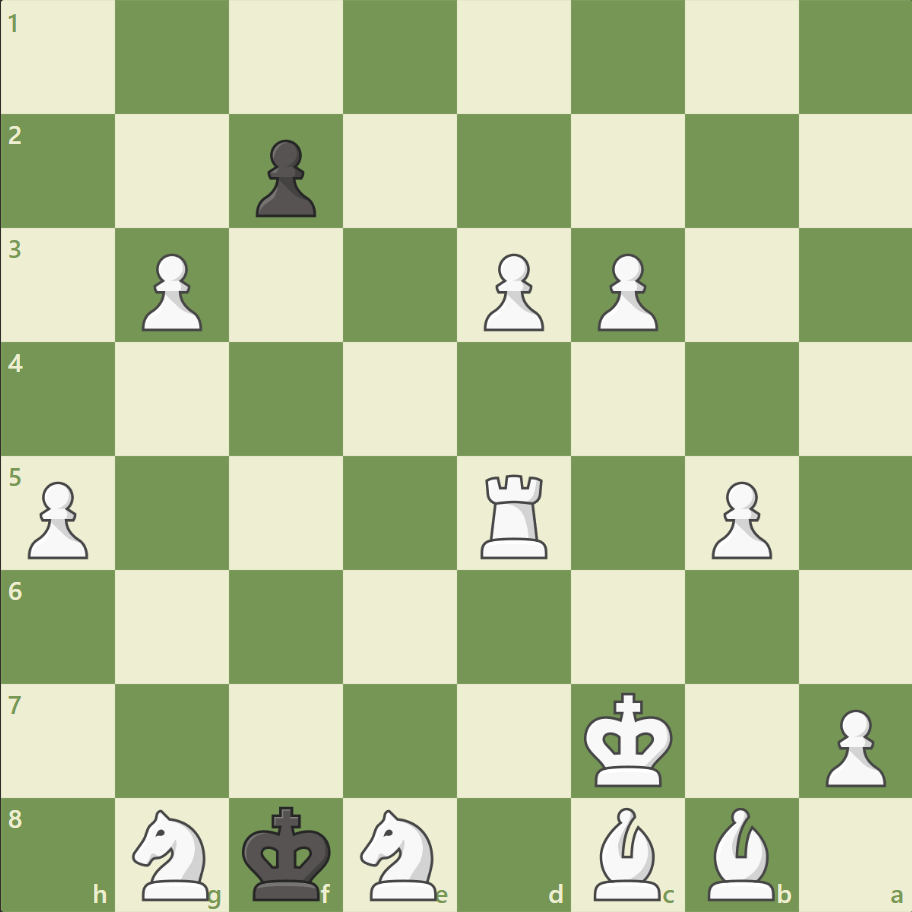B: (698, 801, 782, 904), (585, 801, 669, 904)
K: (579, 685, 679, 793)
N: (351, 802, 449, 904), (124, 802, 222, 904)
P: (701, 473, 776, 564), (20, 473, 95, 564), (474, 246, 549, 337), (133, 246, 208, 337), (815, 700, 889, 791), (588, 246, 662, 337)
R: (473, 466, 556, 563)
k: (238, 798, 338, 906)
p: (247, 132, 322, 223)
